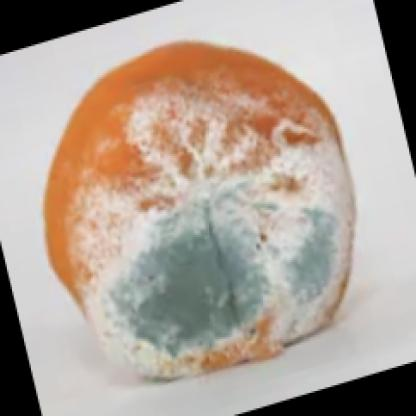rotten: (48, 45, 357, 382)
